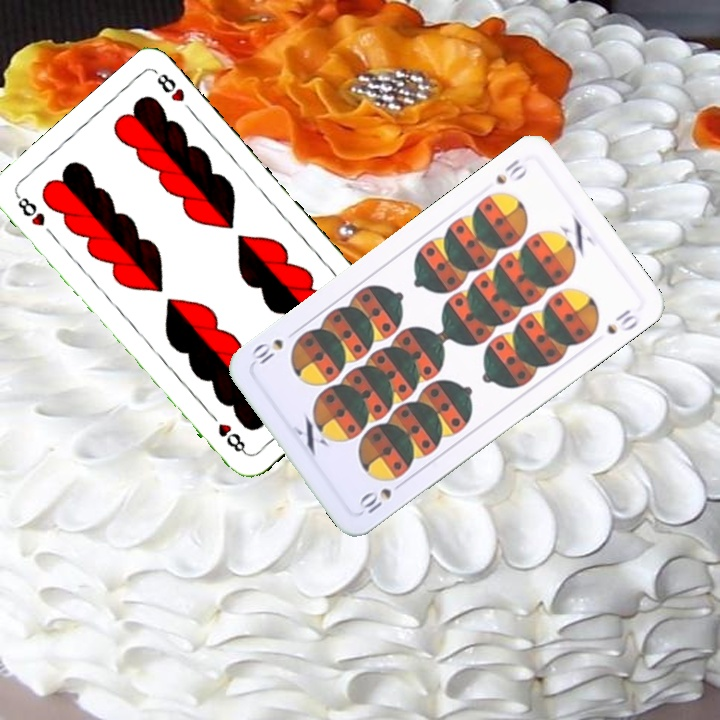H8: (12, 191, 48, 229)
S10: (355, 476, 408, 517), (491, 154, 530, 187)
